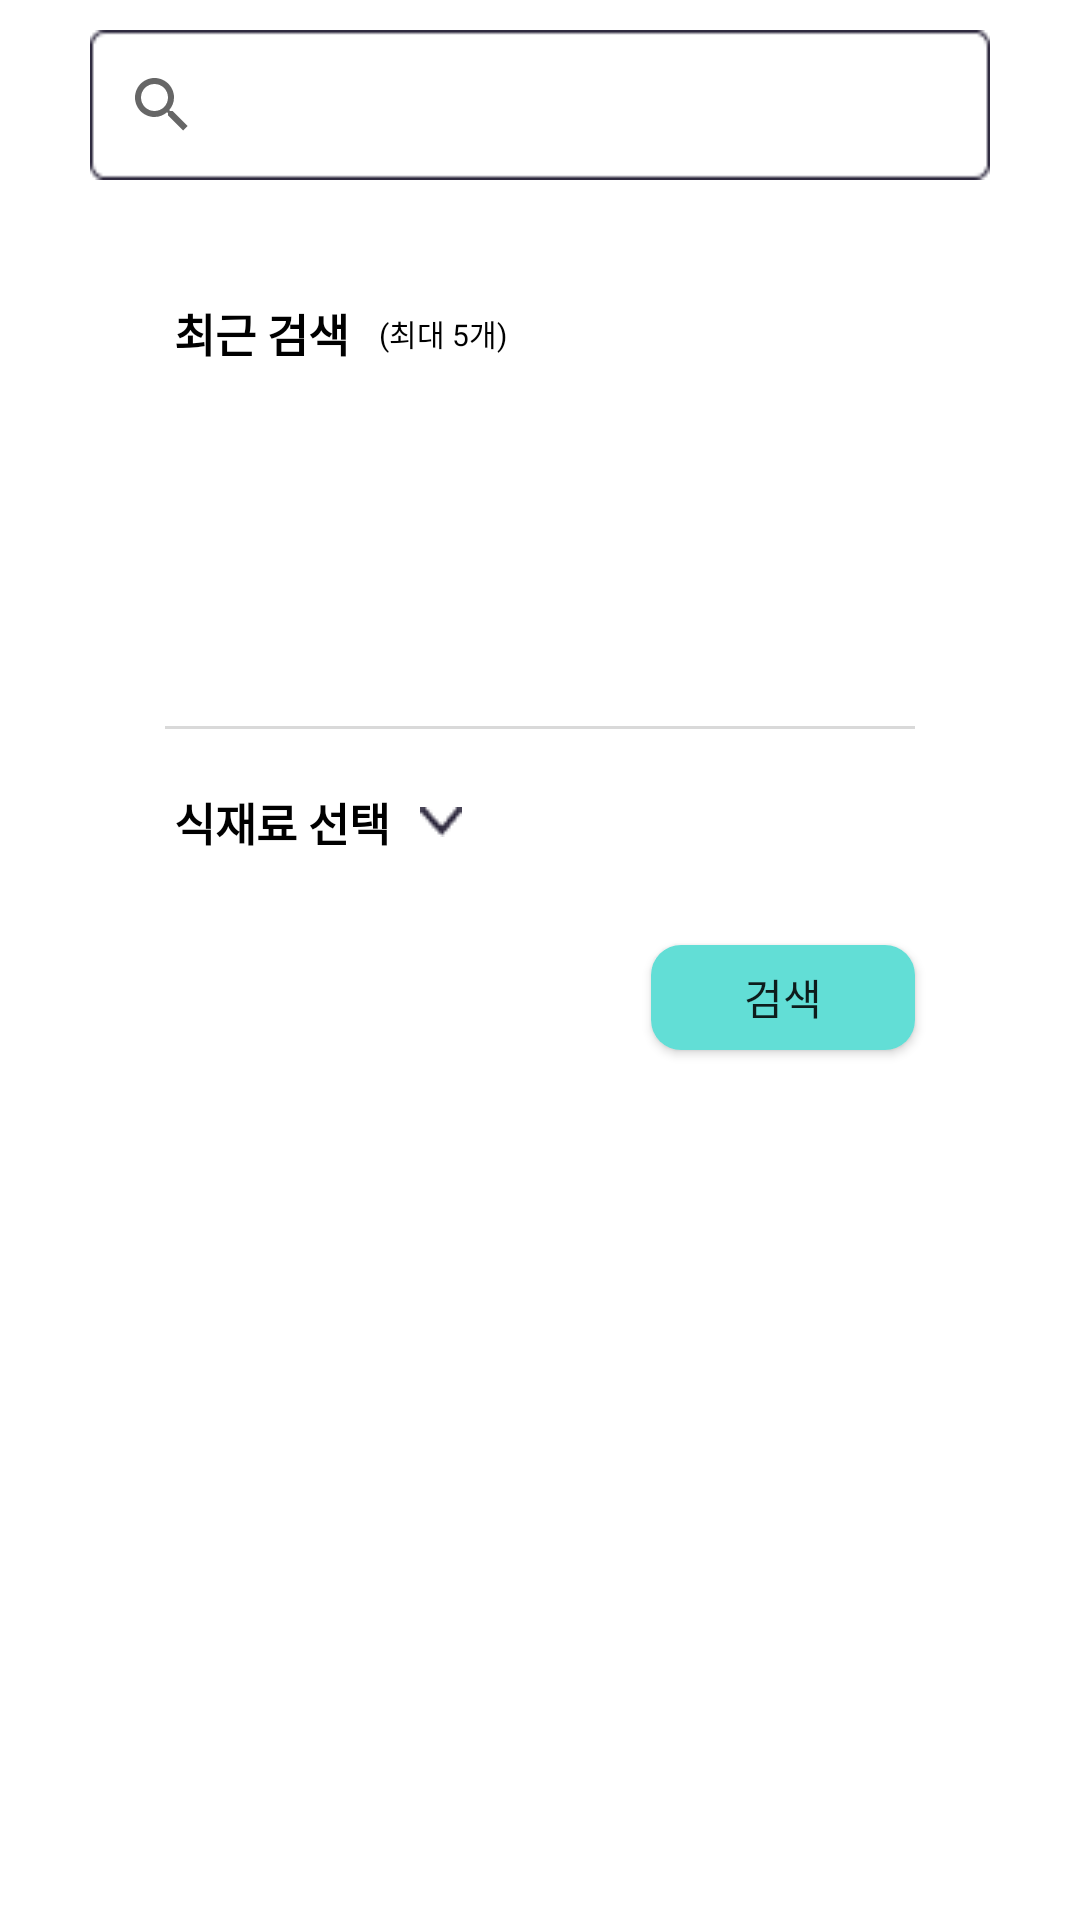

Where to tap for icons on this 1080 x 1920 app screen, as (x=x, y=y):
arrow down: (x=441, y=822)
